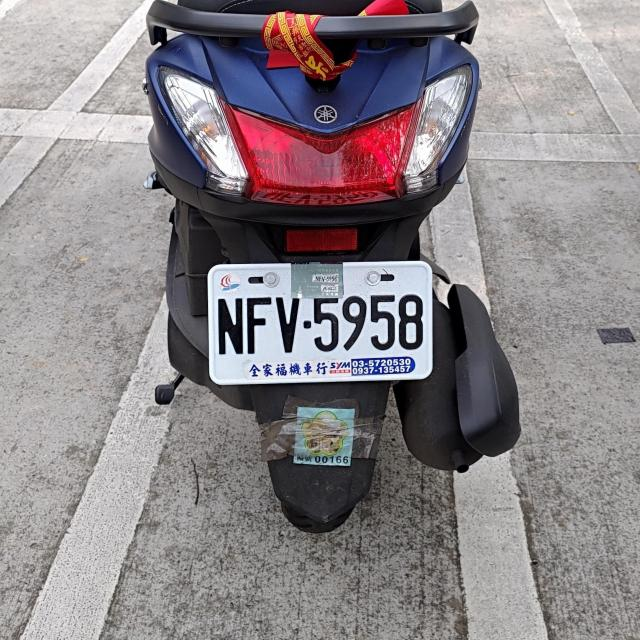W: (206, 259, 433, 388)
